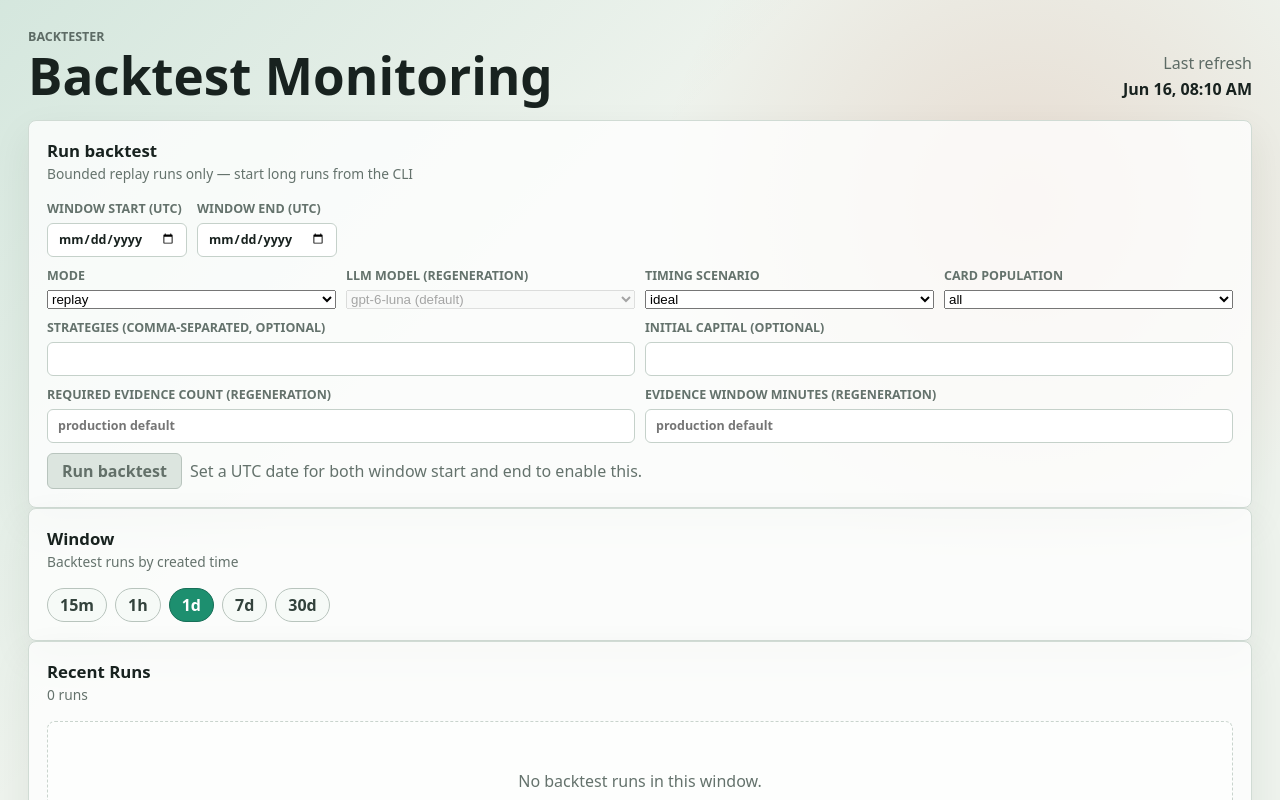
Test: BacktesterTab › warns when regeneration mode is selected
Expected: the text "Regeneration runs can be long" is not shown
Select "regeneration" in the dropdown labelled "Mode". click: x=192, y=299
box: 47,290 -> 336,309
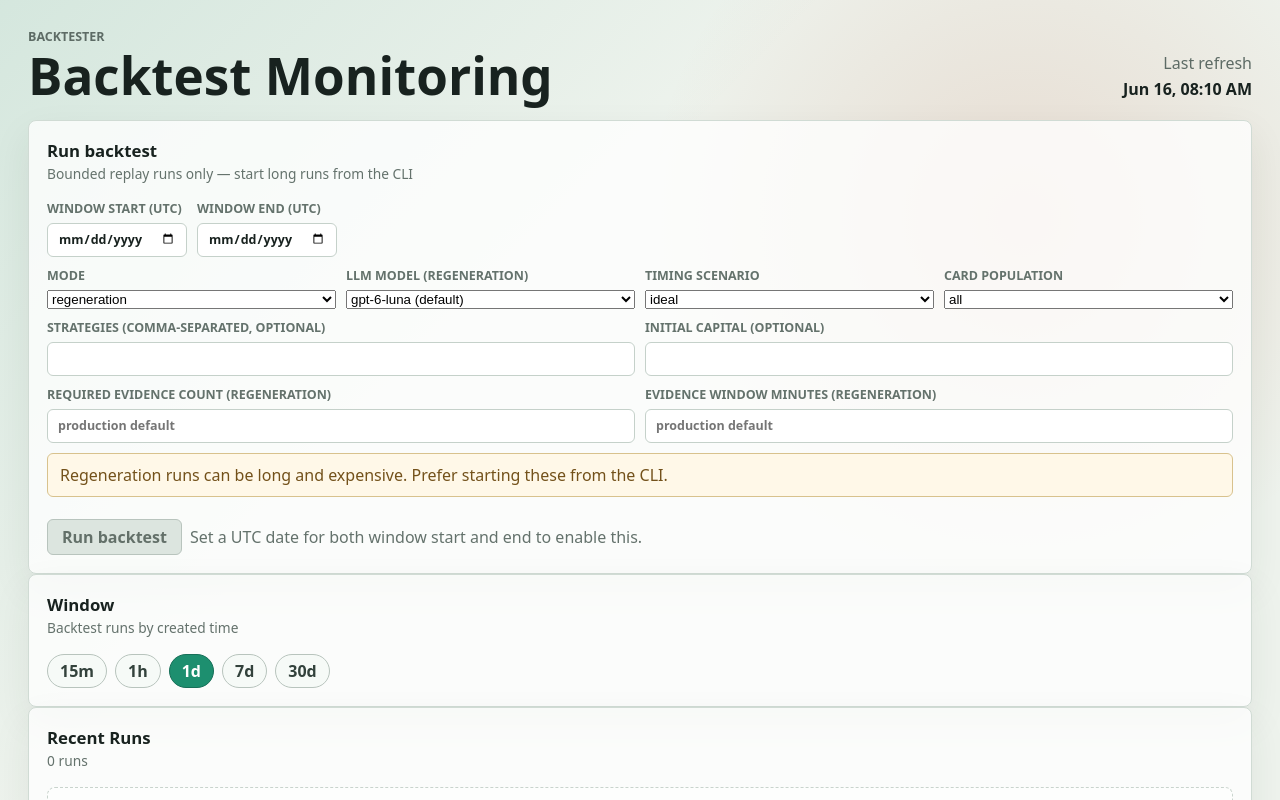
Now the text "Regeneration runs can be long" is shown, box 60,464 -> 668,486
